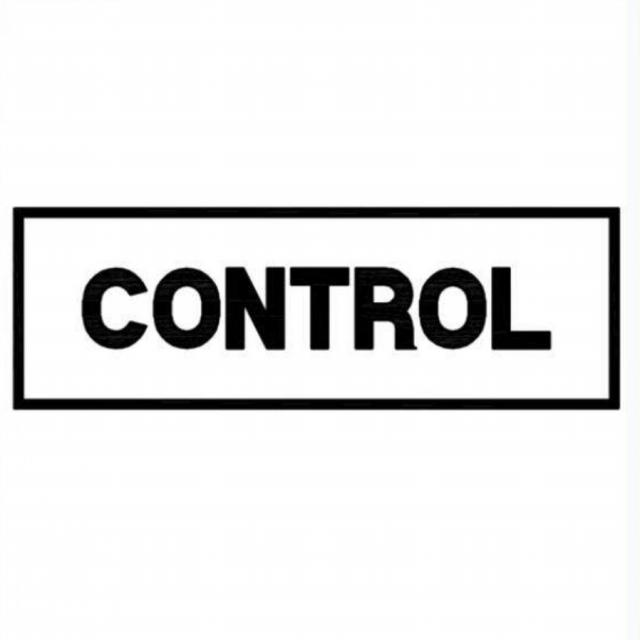Control: (16, 208, 623, 411)
